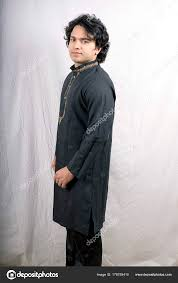Indian_Male: (57, 25, 103, 77)
